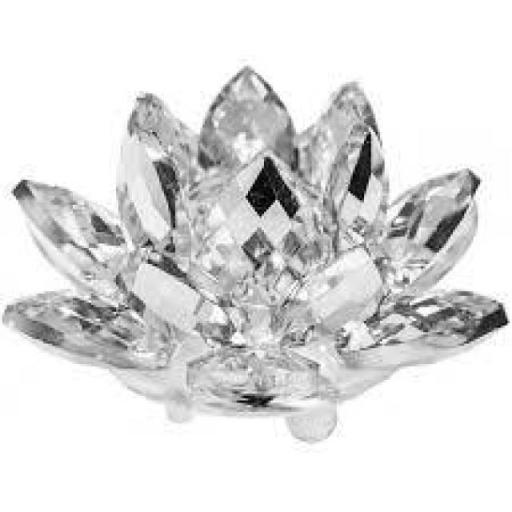glass: (0, 60, 509, 453)
